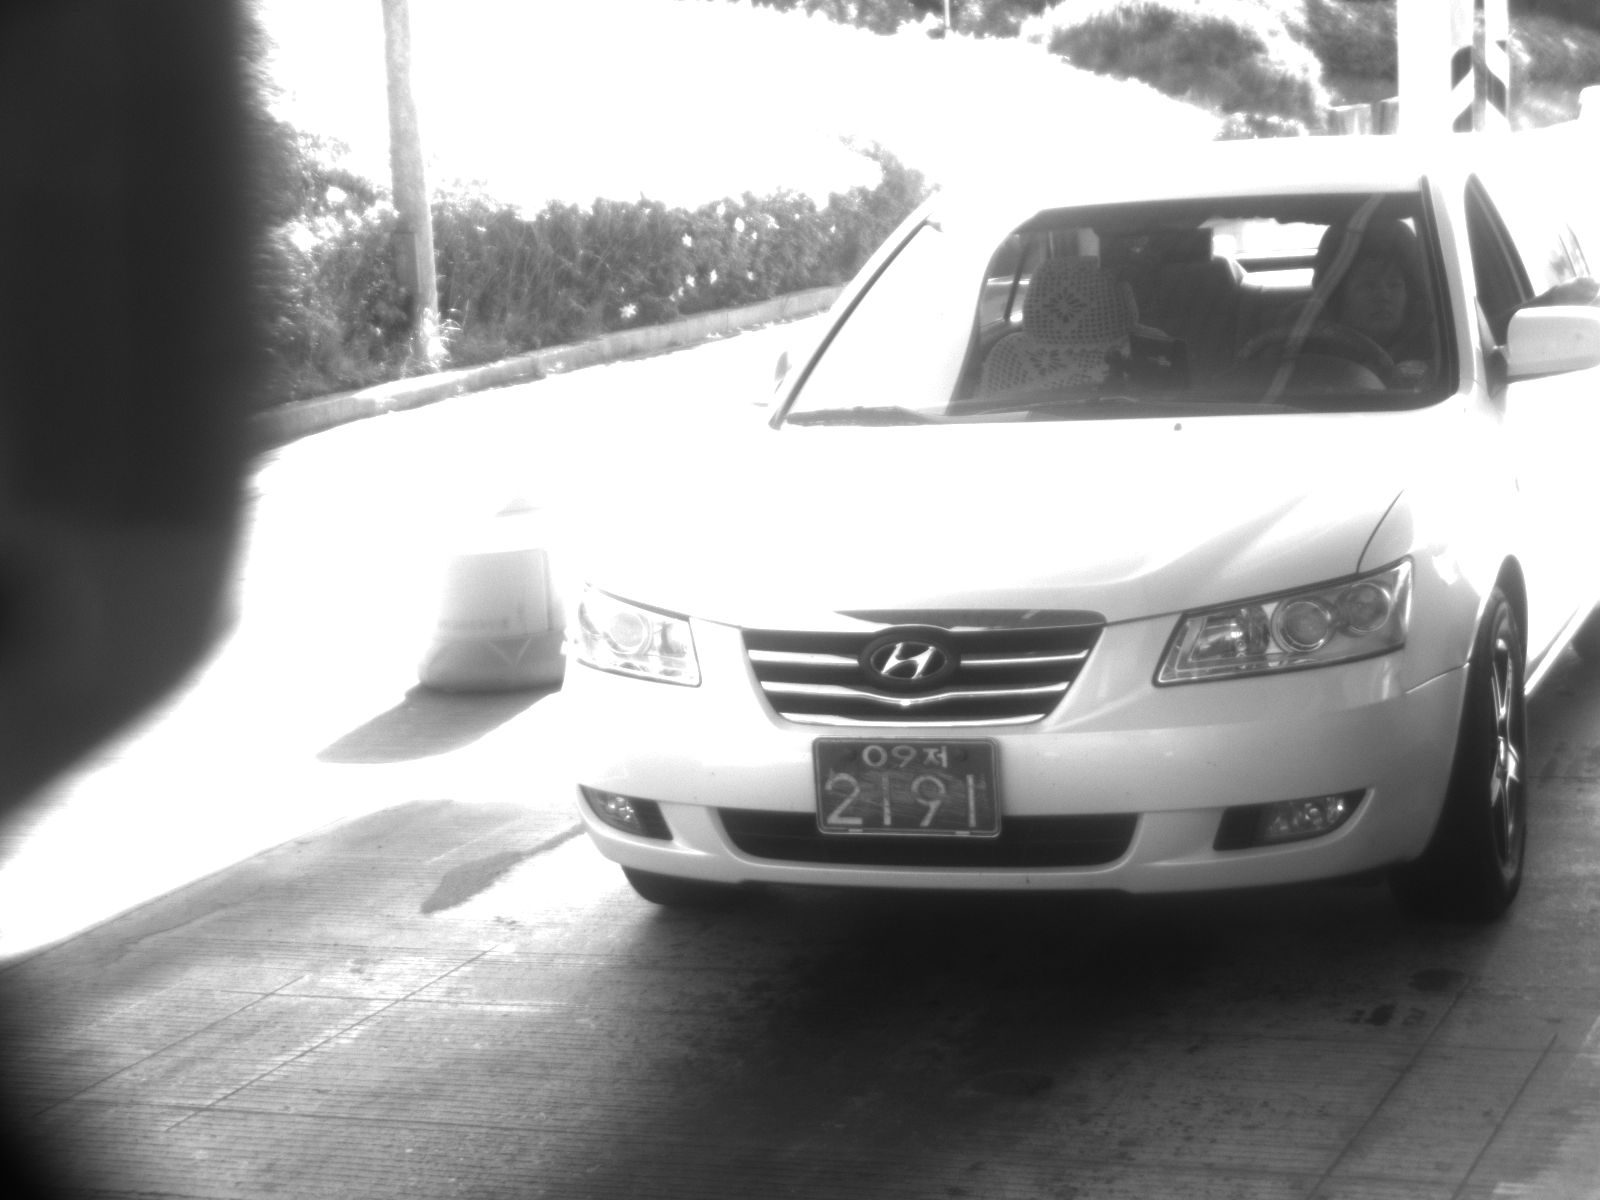car: (557, 135, 1600, 927)
plate: (814, 738, 1004, 837)
